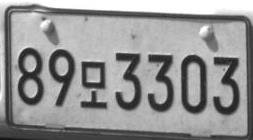0: (179, 53, 207, 114)
3: (147, 53, 175, 113), (212, 56, 240, 116), (114, 52, 142, 111)
8: (16, 47, 44, 105)
9: (47, 48, 75, 107)
모: (79, 60, 107, 109)
